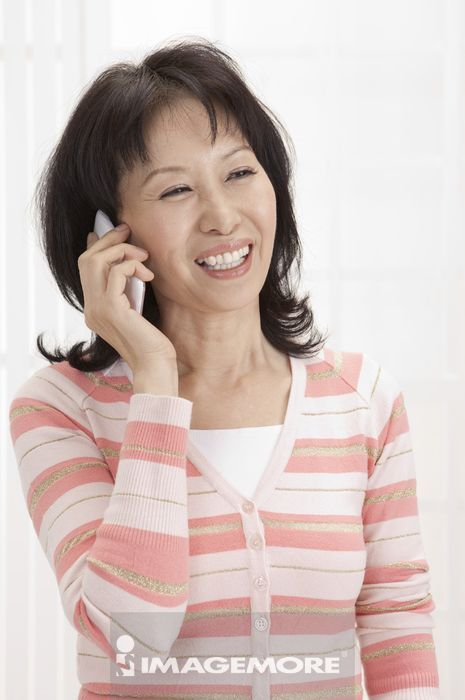phone: (88, 208, 146, 318)
talk: (77, 142, 276, 404)
